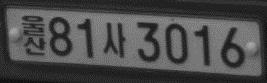0: (164, 23, 189, 65)
1: (192, 23, 211, 68), (77, 17, 95, 59)
3: (135, 20, 161, 63)
6: (218, 25, 246, 68)
8: (48, 15, 73, 56)
사: (102, 20, 127, 59)
울산_V: (20, 14, 47, 56)
